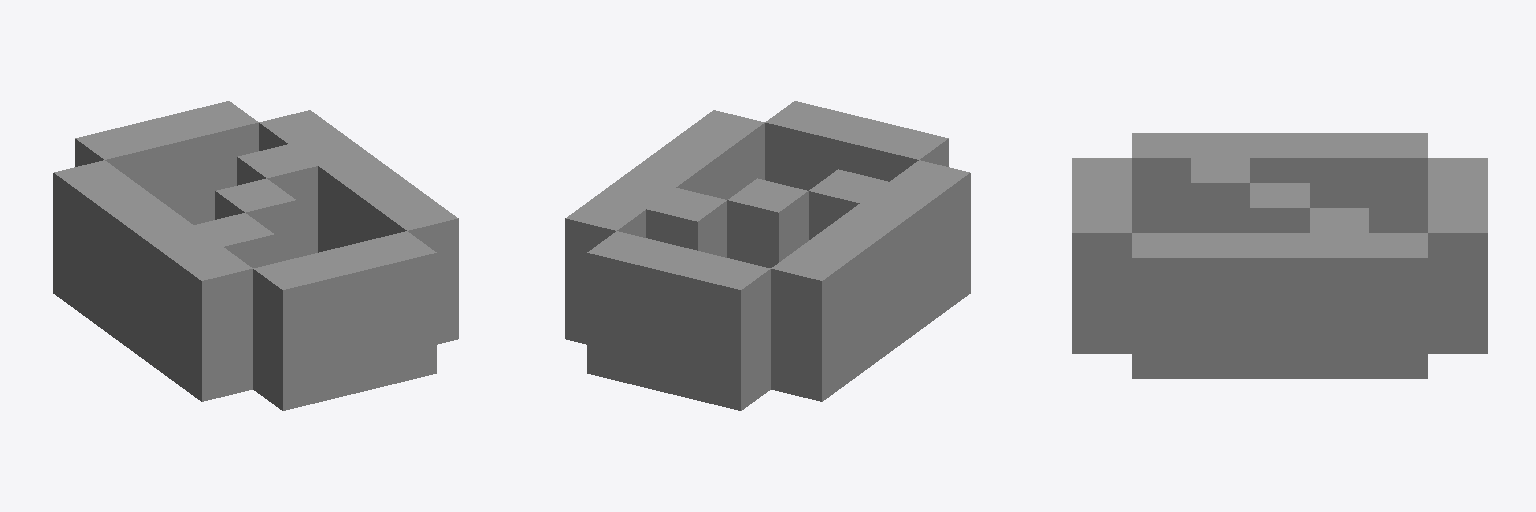
3 renders of one model, left to right at view 1: azimuth 30°, elevation 25°; view 2: azimuth 150°, elevation 25°; view 3: azimuth 270°, elevation 25°, orthographic.
Visible parts, largest first — view 1: 0_CUABC.027; view 2: 0_CUABC.027; view 3: 0_CUABC.027.
Part boxes in pixels (x1,y1,x2,y2): 0_CUABC.027: (53, 101, 458, 410); 0_CUABC.027: (565, 101, 970, 410); 0_CUABC.027: (1072, 133, 1487, 378).
Bounding box in the file's own units: 0.5556 × 0.25 × 0.7778.